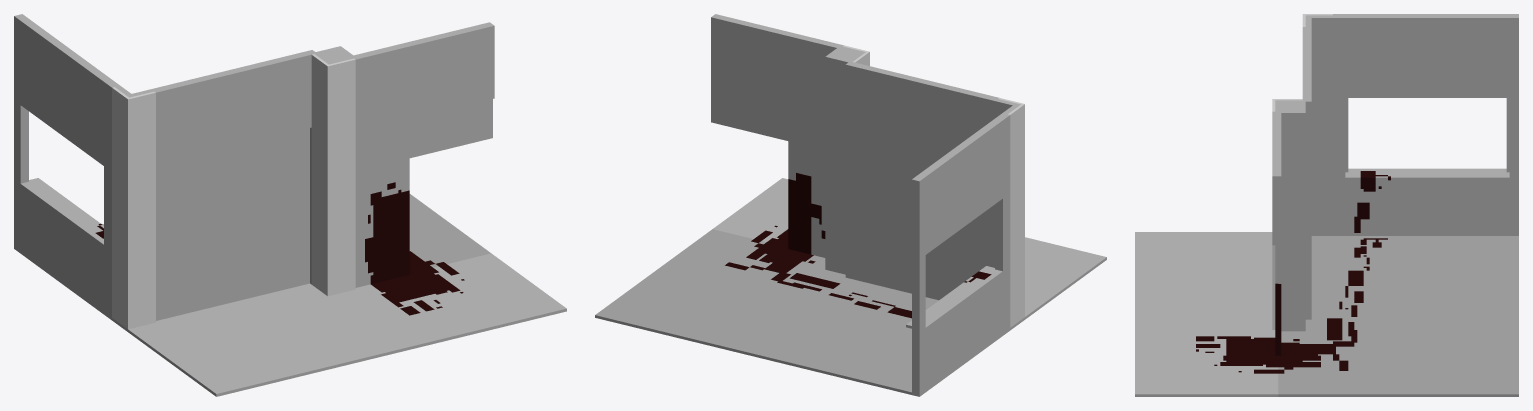
The model's file is 4x2 first (1)-5.obj.
3 renders of one model, left to right at view 1: azimuth 30°, elevation 25°; view 2: azimuth 150°, elevation 25°; view 3: azimuth 270°, elevation 25°, orthographic. The views are drawn at different scales.
Visible parts, largest first — view 1: 4x2 first (1)-5; view 2: 4x2 first (1)-5; view 3: 4x2 first (1)-5.
Boxes of the visible parts, <box> form: 4x2 first (1)-5: <box>14,14,566,396</box>; 4x2 first (1)-5: <box>595,14,1106,396</box>; 4x2 first (1)-5: <box>1135,14,1518,396</box>.
Bounding box in the file's own units: 126 × 80 × 126.
1 material, 1 textured.
